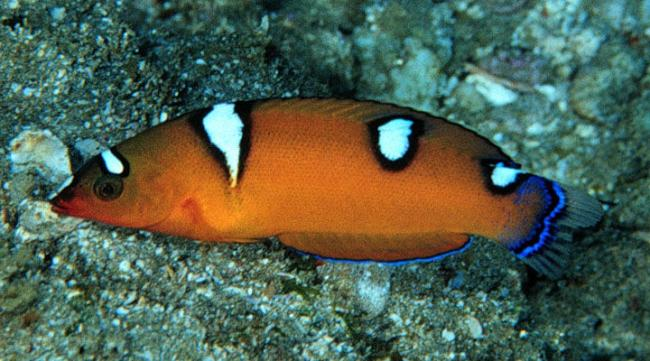fish: (49, 96, 603, 278)
